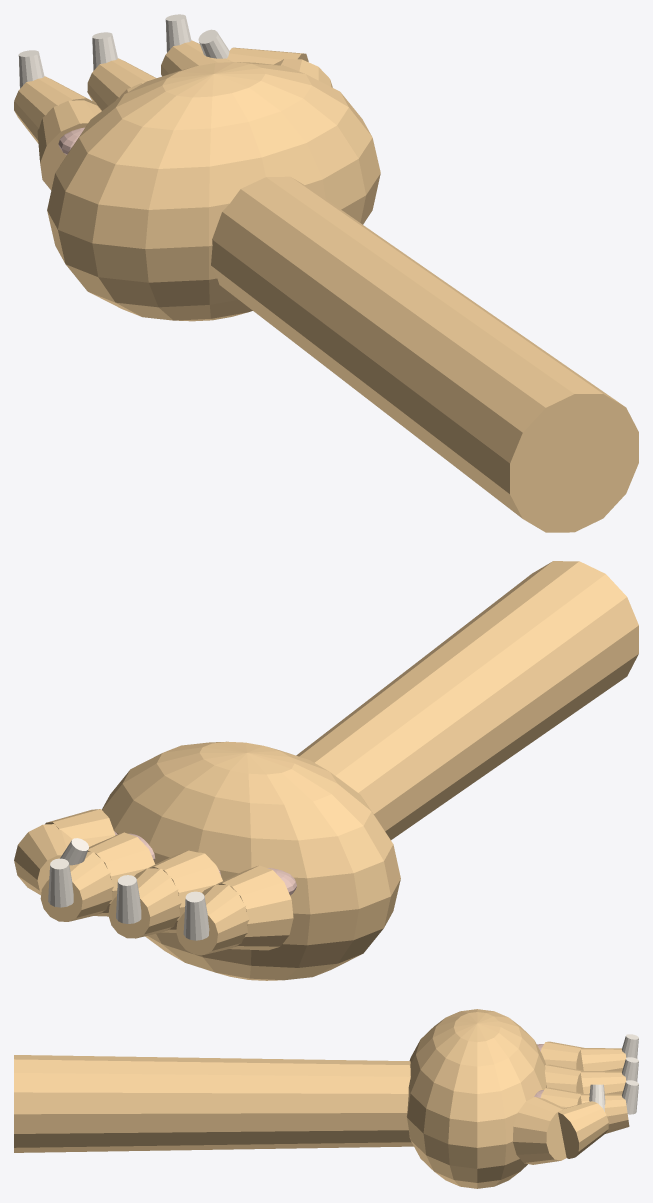
The model's file is paw_chunky.glb.
3 views of the same model, one above another, from view 1: azimuth 30°, elevation 25°; view 2: azimuth 150°, elevation 25°; view 3: azimuth 270°, elevation 25° (orthographic). The views are drawn at different scales.
Visible parts, largest first — view 1: Paw; view 2: Paw; view 3: Paw.
Part boxes in pixels (x1=…): Paw: x1=14, y1=14, x2=638, y2=532; Paw: x1=14, y1=561, x2=638, y2=980; Paw: x1=14, y1=1009, x2=638, y2=1188.
Size of the model in its own units: 0.09 by 0.0612 by 0.2293.
